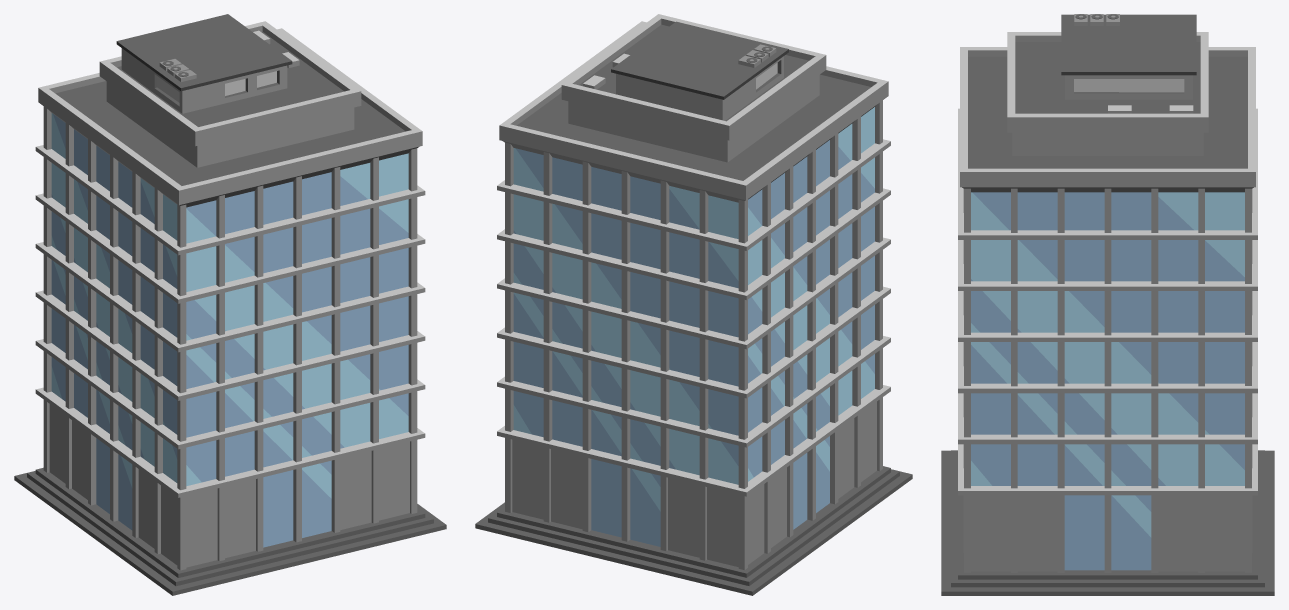
The model's file is business_center_006.fbx.
3 renders of one model, left to right at view 1: azimuth 30°, elevation 25°; view 2: azimuth 150°, elevation 25°; view 3: azimuth 270°, elevation 25°, orthographic. The views are drawn at different scales.
Visible parts, largest first — view 1: business_center_006; view 2: business_center_006; view 3: business_center_006.
Boxes of the visible parts, left/top/right/bottom form: business_center_006: left=14, top=14, right=446, bottom=595; business_center_006: left=475, top=14, right=912, bottom=595; business_center_006: left=941, top=14, right=1274, bottom=595.
Bounding box in the file's own units: 1408 × 2231 × 1408.
